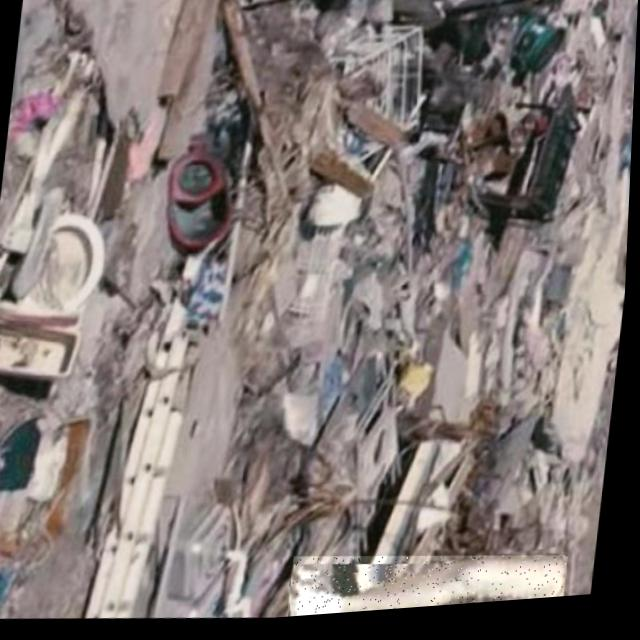Person in Rubble: (291, 544, 573, 622)
